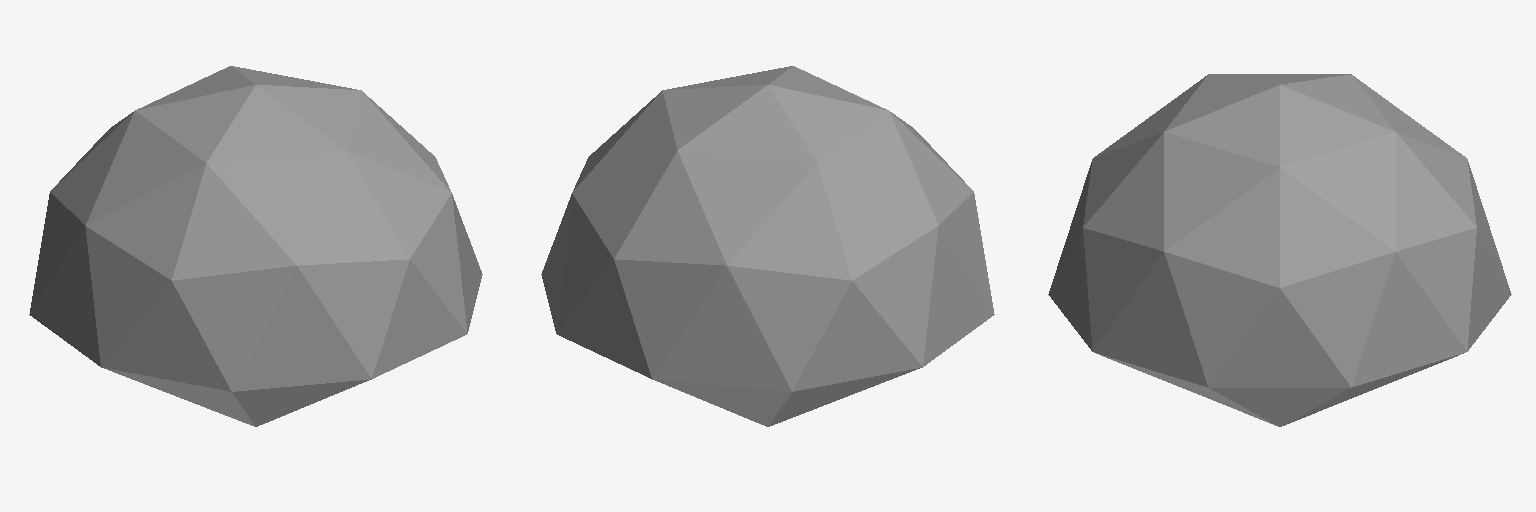
Rendered from Diamond.obj.
The picture shows the model from 3 angles: view 1: azimuth 30°, elevation 25°; view 2: azimuth 150°, elevation 25°; view 3: azimuth 270°, elevation 25°; orthographic projection.
Parts seen in each view (by area): view 1: Icosphere; view 2: Icosphere; view 3: Icosphere.
Part boxes in pixels (left/top/right/bottom): Icosphere: left=29, top=66, right=482, bottom=426; Icosphere: left=541, top=66, right=994, bottom=426; Icosphere: left=1048, top=74, right=1511, bottom=426.
Size of the model in its own units: 1.9 by 1.63 by 2.